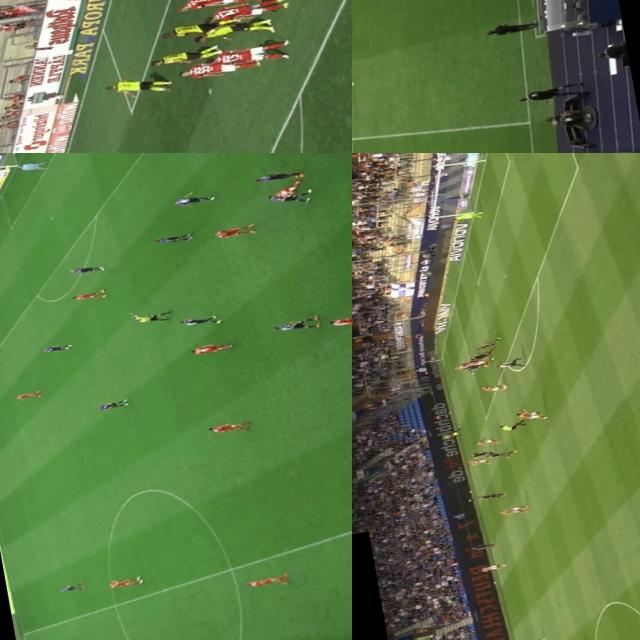ball: (288, 184, 298, 190), (502, 383, 509, 388)
player: (190, 18, 274, 46), (201, 41, 284, 68), (153, 14, 236, 41), (179, 51, 249, 80), (204, 0, 282, 24), (145, 46, 222, 68), (104, 74, 166, 100), (172, 0, 261, 15), (205, 415, 258, 438), (243, 571, 294, 592), (265, 187, 313, 208), (188, 337, 238, 357), (172, 188, 217, 206), (255, 167, 302, 184), (180, 310, 223, 328), (214, 220, 256, 238), (69, 258, 111, 276), (40, 336, 78, 355), (512, 404, 550, 423), (322, 306, 352, 329), (108, 572, 148, 589), (70, 284, 111, 300), (270, 178, 302, 198), (7, 386, 49, 401), (156, 228, 192, 244), (496, 502, 532, 516), (496, 354, 528, 369), (478, 377, 508, 393), (18, 155, 46, 172), (96, 398, 130, 410), (474, 561, 508, 573), (486, 448, 518, 460), (451, 210, 482, 222), (464, 540, 496, 551), (463, 454, 494, 465), (453, 359, 484, 370), (57, 581, 84, 593), (478, 489, 505, 501), (476, 336, 500, 349), (468, 347, 494, 359), (470, 436, 499, 446), (466, 448, 492, 458), (464, 361, 488, 370), (464, 358, 490, 366), (506, 635, 543, 640)
